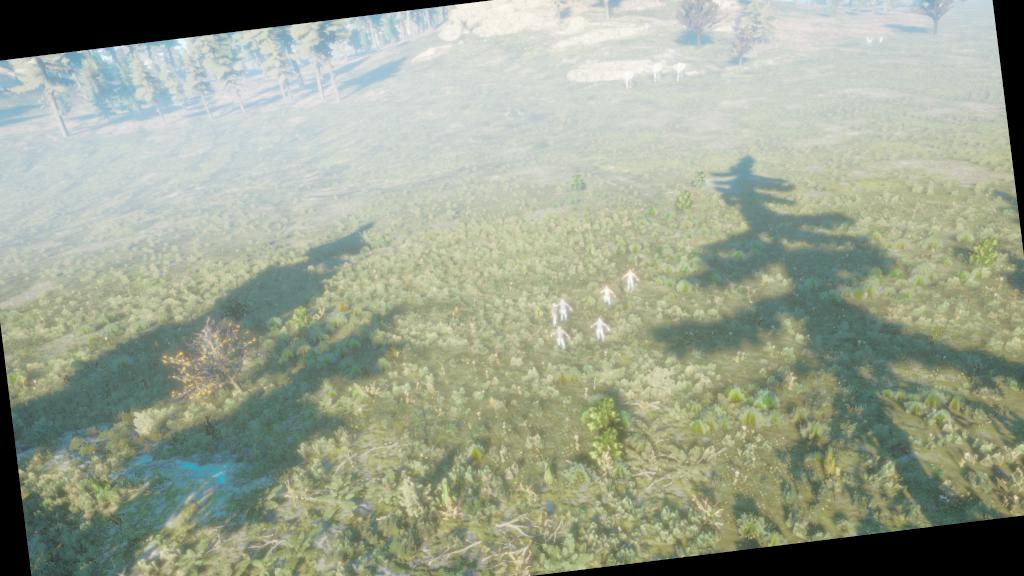elephant: (606, 50, 648, 106), (668, 52, 699, 89), (647, 54, 670, 90)
human: (537, 280, 586, 328), (616, 252, 659, 306), (535, 317, 579, 363), (593, 280, 625, 320), (585, 311, 617, 349)
